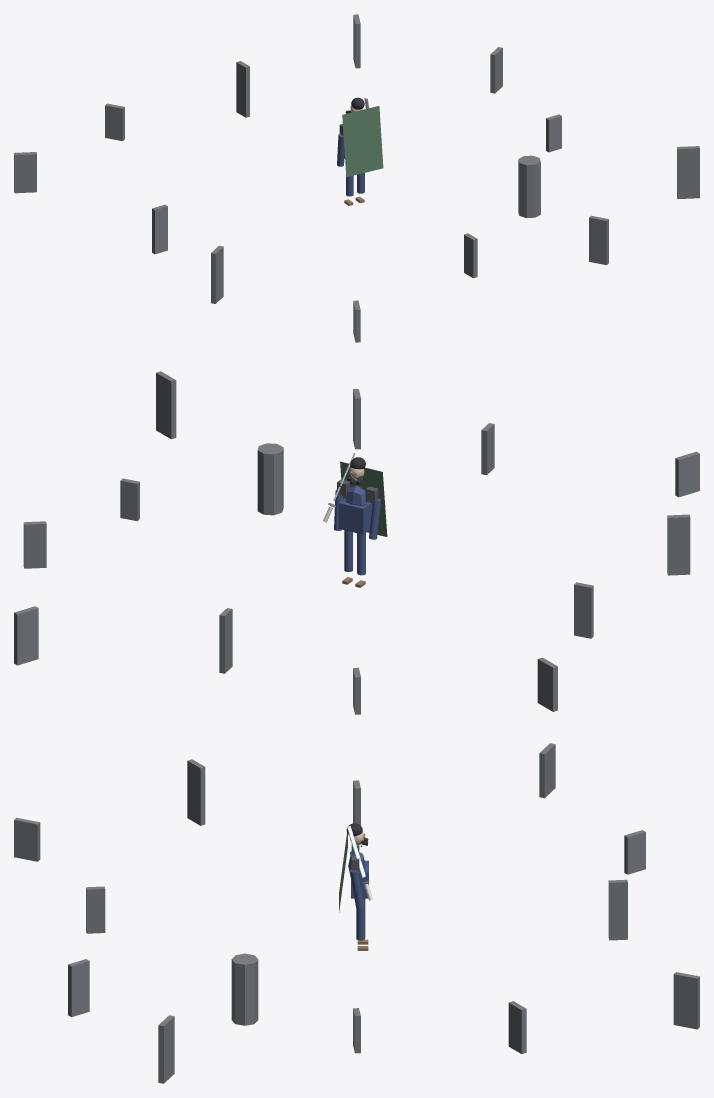
File: ronin_cinematic_v0.1.glb
3 renders of one model, top to bottom at view 1: azimuth 30°, elevation 25°; view 2: azimuth 150°, elevation 25°; view 3: azimuth 270°, elevation 25°, orthographic. The views are drawn at different scales.
Visible parts, largest first — view 1: Cloth_Haori, StoneLantern, Gravestone_11, Gravestone_5, Gravestone_10, Gravestone_6, Gravestone_3, Gravestone_4, Gravestone_7, Gravestone_9, Gravestone_0, Gravestone_1; view 2: StoneLantern, Gravestone_7, Gravestone_2, Gravestone_11, Gravestone_1, Gravestone_6, Gravestone_8, Gravestone_5, Cloth_Haori, Cloth_KimonoLower, Gravestone_3, Gravestone_0 (+1 smaller); view 3: StoneLantern, Gravestone_2, Gravestone_3, Gravestone_10, Gravestone_7, Gravestone_8, Gravestone_11, Gravestone_9, Gravestone_1, Gravestone_4, Gravestone_5.
Part boxes in pixels (x1,y1,x2,y2): Cloth_Haori: [342, 106, 383, 177]; StoneLantern: [518, 155, 540, 218]; Gravestone_11: [677, 146, 699, 199]; Gravestone_5: [14, 152, 36, 193]; Gravestone_10: [589, 215, 608, 265]; Gravestone_6: [152, 204, 167, 254]; Gravestone_3: [236, 61, 249, 117]; Gravestone_4: [105, 103, 124, 141]; Gravestone_7: [211, 245, 223, 303]; Gravestone_9: [464, 233, 477, 278]; Gravestone_0: [546, 114, 561, 152]; Gravestone_1: [490, 47, 502, 93]; StoneLantern: [257, 443, 283, 515]; Gravestone_7: [667, 514, 690, 575]; Gravestone_2: [14, 606, 38, 665]; Gravestone_11: [156, 371, 176, 439]; Gravestone_1: [23, 521, 46, 568]; Gravestone_6: [574, 582, 593, 638]; Gravestone_8: [675, 451, 699, 497]; Gravestone_5: [537, 657, 557, 711]; Cloth_Haori: [340, 461, 387, 536]; Cloth_KimonoLower: [338, 498, 372, 534]; Gravestone_3: [219, 608, 232, 673]; Gravestone_0: [120, 478, 139, 521]; StoneLantern: [231, 953, 258, 1025]; Gravestone_2: [673, 972, 699, 1029]; Gravestone_3: [608, 879, 627, 940]; Gravestone_10: [68, 959, 89, 1017]; Gravestone_7: [187, 759, 205, 825]; Gravestone_8: [14, 817, 40, 861]; Gravestone_11: [158, 1015, 174, 1083]; Gravestone_9: [86, 886, 105, 933]; Gravestone_1: [508, 1001, 526, 1053]; Gravestone_4: [624, 830, 645, 874]; Gravestone_5: [539, 743, 555, 798].
Size of what is drawn, in the model's own units: 9.19 by 1.89 by 9.19.
